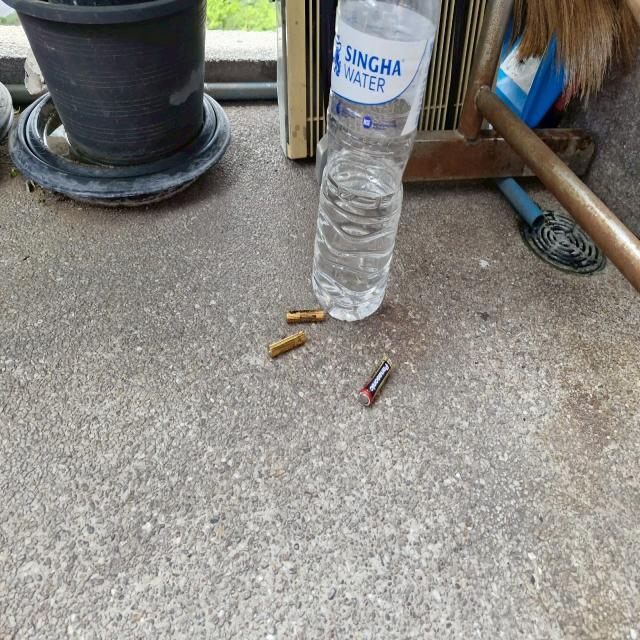battery: (360, 354, 394, 416), (267, 328, 309, 361), (284, 305, 327, 328)
plastic bottle: (310, 0, 440, 303)
